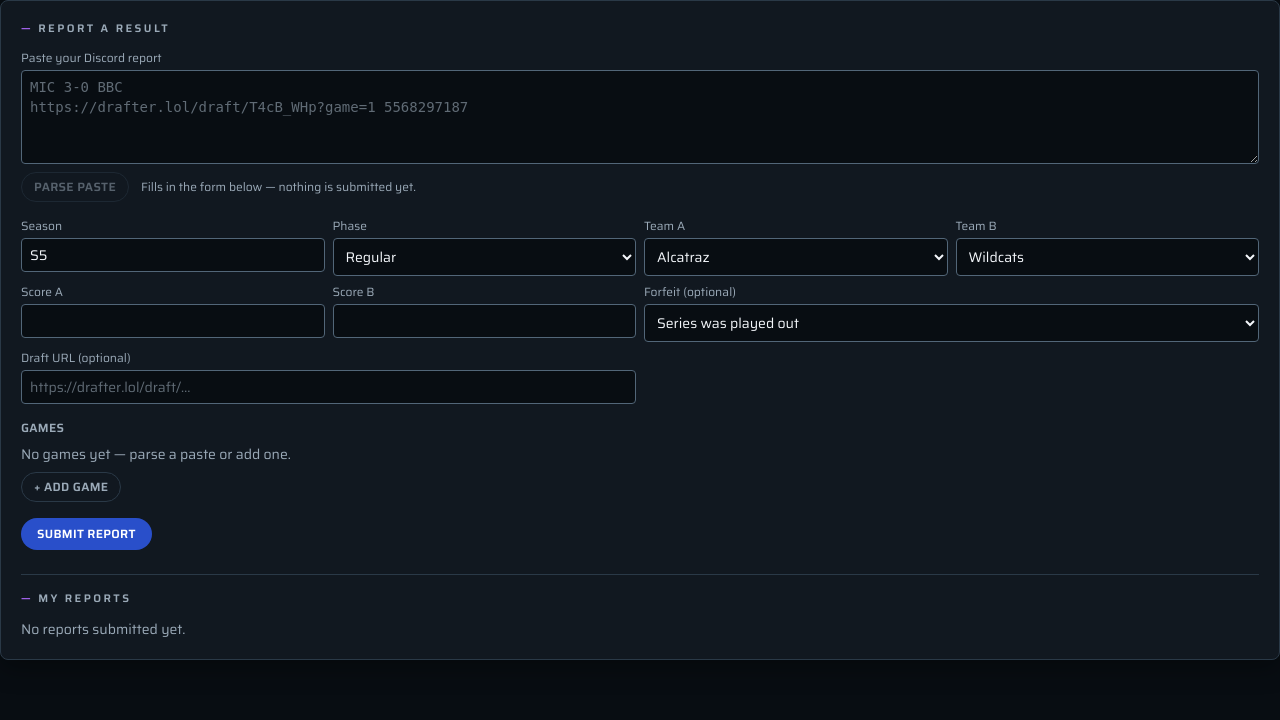
Scenario: ReportBox blue-side requirement › refuses to submit a game with no blue side chosen
Click the button "+ Add game".
click(71, 486)  # box [21,472,121,502]
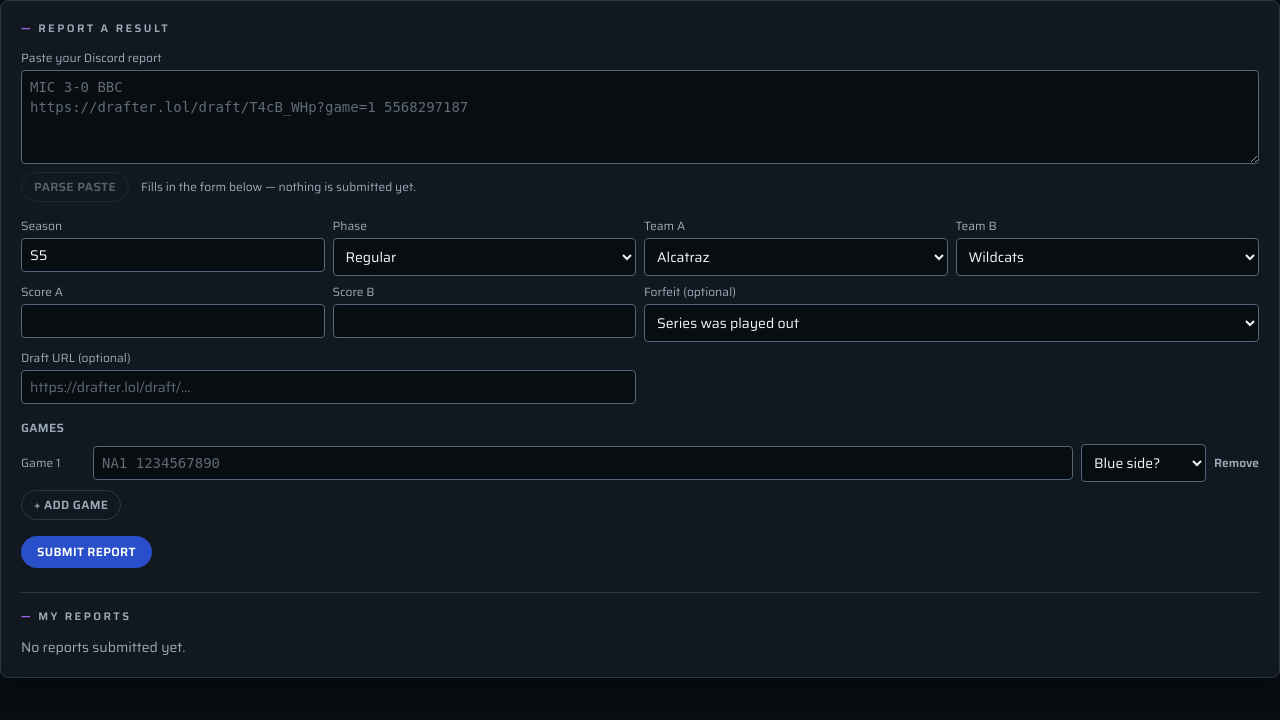
Type "NA1_5623487837" into the field with placeholder "NA1_1234567890".
click(583, 462); type("NA1_5623487837")  # box [93,446,1073,480]
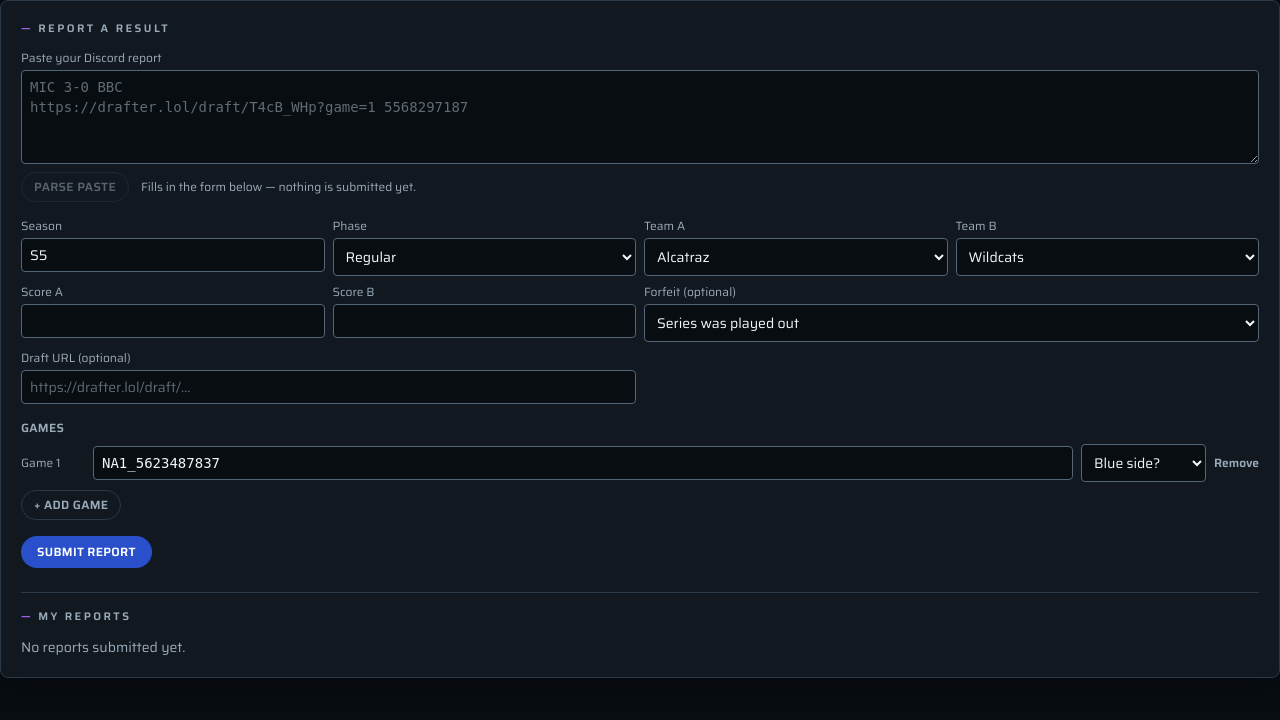
Type "2" into the field labelled "Score A".
click(173, 320); type("2")  # box [21,304,324,338]
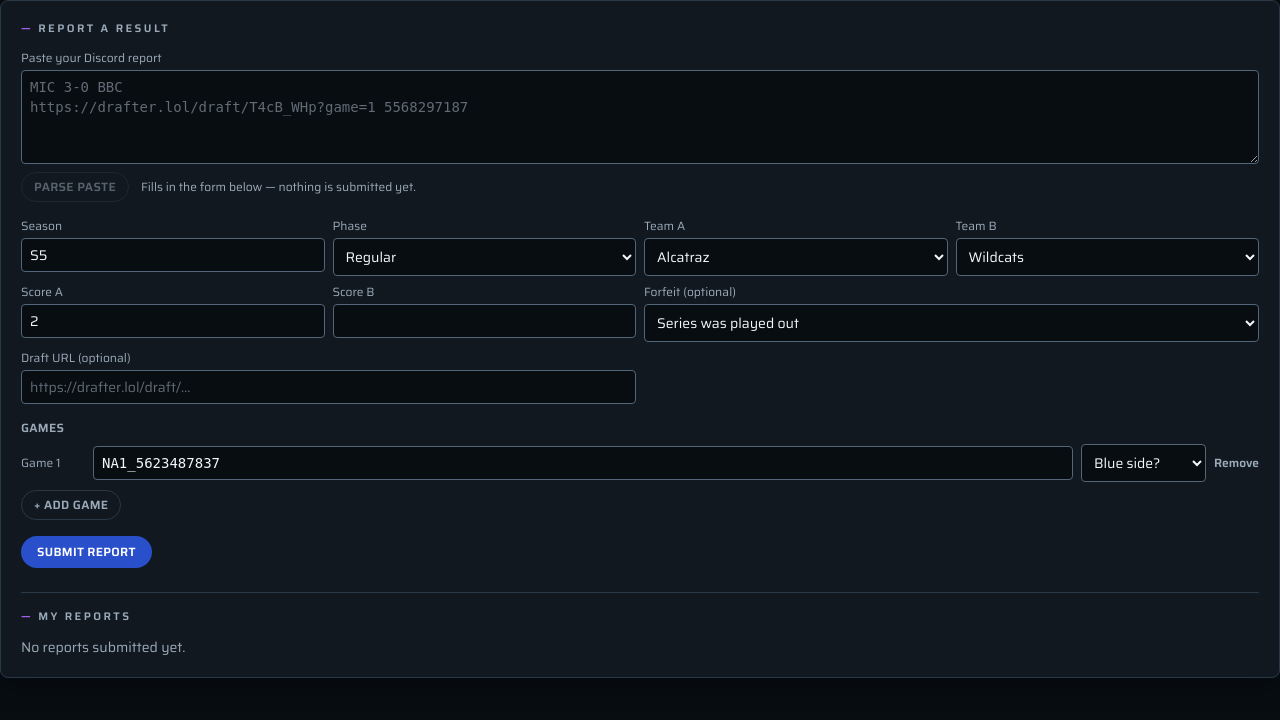
Type "1" into the field labelled "Score B".
click(484, 320); type("1")  # box [332,304,636,338]
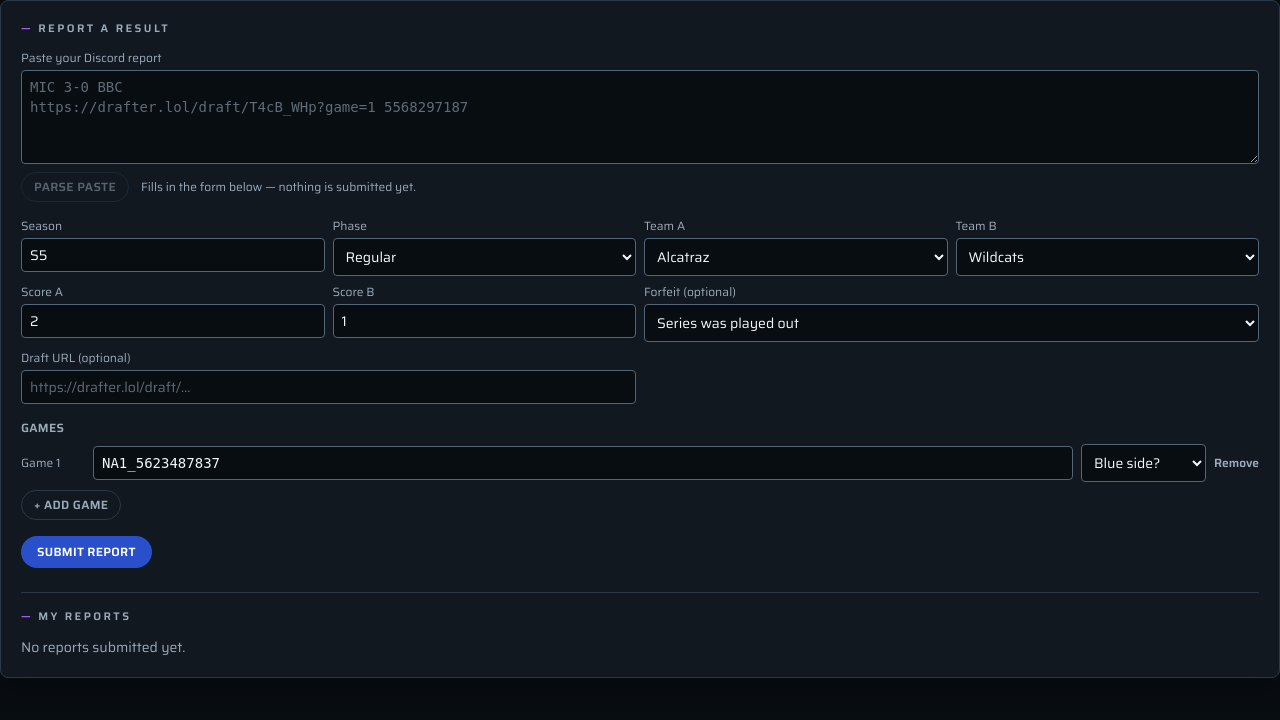
Click the button "Submit report".
click(86, 552)  # box [21,536,152,568]
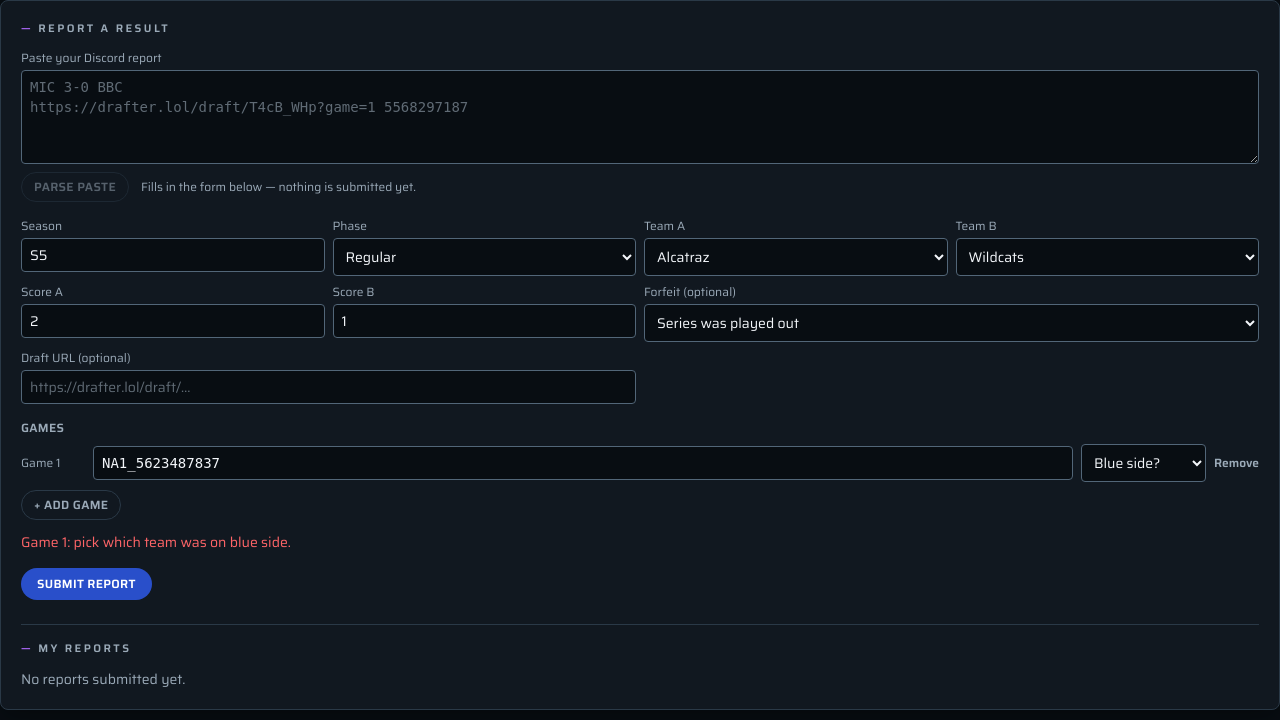
expect the list item "Game 1: pick which team was on blue side." is shown: met, box [21,530,291,552]
